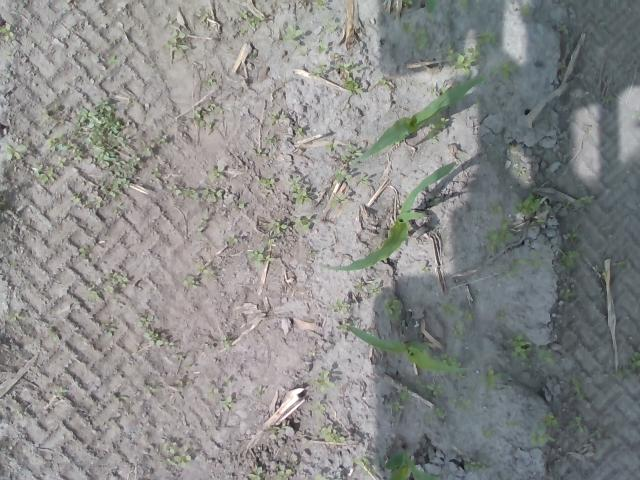Maize: (322, 162, 456, 274), (347, 76, 482, 165), (334, 322, 476, 375), (386, 440, 444, 480)
Weeds: (31, 96, 171, 220), (82, 271, 128, 304), (260, 216, 312, 243), (136, 314, 173, 348), (172, 182, 224, 204), (445, 42, 480, 74), (401, 19, 432, 50), (500, 257, 541, 279), (487, 223, 518, 252), (192, 98, 220, 130), (325, 142, 362, 166), (337, 62, 362, 95), (613, 351, 640, 379), (544, 412, 586, 430), (512, 192, 542, 216), (208, 386, 235, 412), (386, 386, 412, 412), (430, 112, 451, 144), (164, 447, 193, 470), (287, 177, 311, 204), (237, 7, 260, 35), (509, 336, 534, 360), (318, 424, 347, 444), (383, 298, 404, 324), (568, 372, 588, 398), (310, 368, 333, 390), (453, 313, 474, 337), (4, 142, 26, 163), (166, 29, 188, 50), (493, 60, 516, 80), (439, 352, 464, 370), (246, 246, 268, 266), (528, 432, 554, 448), (476, 29, 498, 47), (421, 383, 449, 397), (451, 396, 474, 413), (561, 248, 582, 266), (285, 24, 305, 42), (538, 348, 557, 366), (484, 367, 498, 391), (274, 462, 292, 480), (0, 22, 15, 43), (462, 460, 490, 471), (182, 272, 199, 290), (308, 62, 326, 79), (102, 322, 119, 339), (206, 167, 224, 182), (331, 296, 347, 312), (436, 300, 454, 314), (46, 326, 60, 343), (424, 0, 438, 17), (556, 286, 574, 299), (246, 467, 264, 480), (352, 456, 372, 467), (488, 200, 503, 214), (577, 193, 596, 204), (520, 4, 536, 17), (268, 425, 280, 442), (270, 110, 288, 120), (257, 178, 273, 189), (332, 169, 348, 180), (333, 196, 347, 208), (6, 312, 20, 324), (556, 24, 570, 35), (294, 126, 306, 138), (496, 310, 508, 322), (454, 0, 470, 9), (200, 78, 213, 89), (561, 199, 574, 210), (226, 237, 238, 248), (314, 0, 328, 9), (483, 428, 494, 439), (434, 408, 444, 420), (316, 42, 326, 54), (558, 61, 566, 76), (567, 232, 578, 242), (370, 286, 380, 296), (78, 248, 88, 258), (374, 78, 386, 86), (358, 175, 368, 184), (110, 55, 120, 64), (315, 474, 329, 480), (238, 201, 247, 209), (401, 0, 412, 6)
